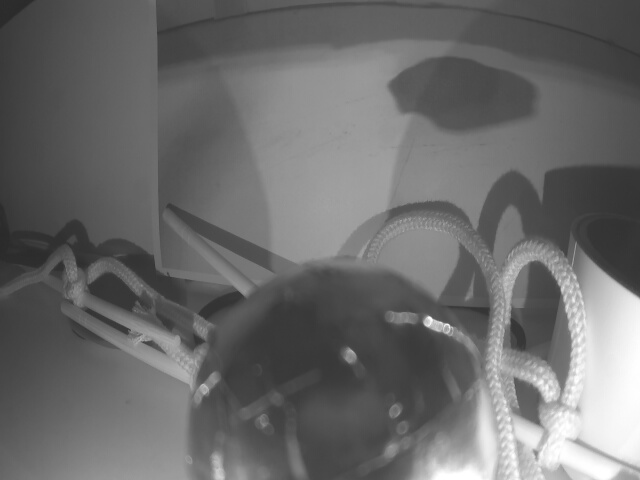Live: (192, 264, 495, 480)
